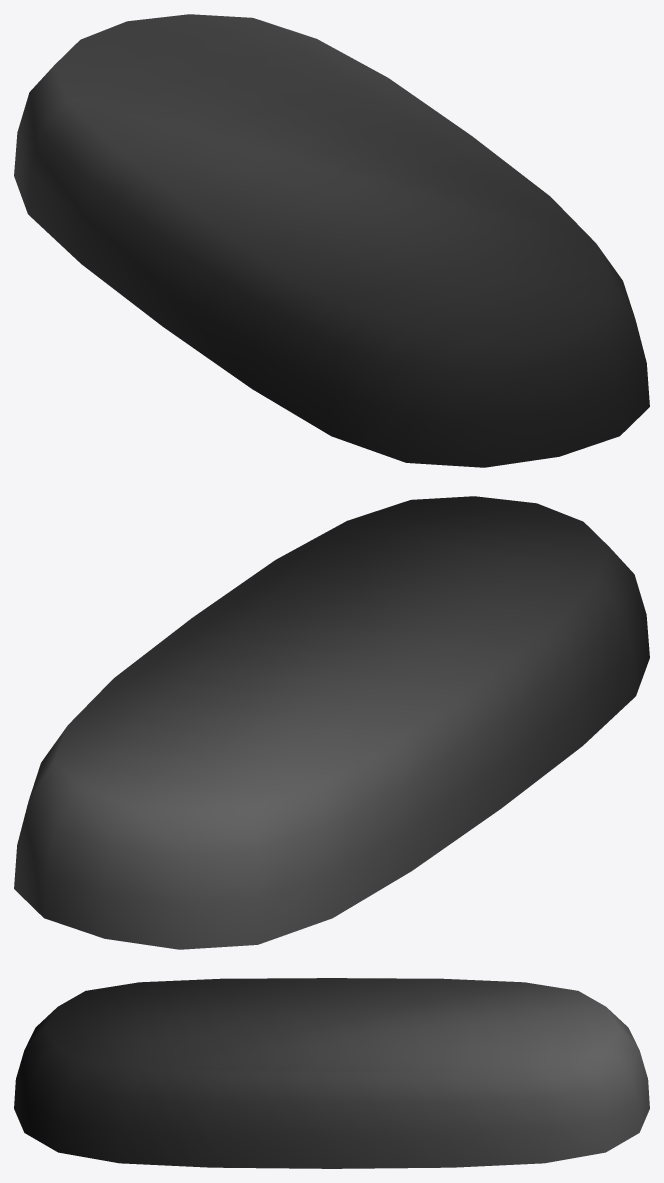
The model's file is Bread Tall Burn Half_2.fbx.
3 renders of one model, top to bottom at view 1: azimuth 30°, elevation 25°; view 2: azimuth 150°, elevation 25°; view 3: azimuth 270°, elevation 25°, orthographic. The views are drawn at different scales.
Parts seen in each view (by area): view 1: Bread Tall Burn Half_2; view 2: Bread Tall Burn Half_2; view 3: Bread Tall Burn Half_2.
Boxes of the visible parts, x1,y1,x2,y2 form: Bread Tall Burn Half_2: [14, 14, 649, 467]; Bread Tall Burn Half_2: [14, 496, 649, 949]; Bread Tall Burn Half_2: [14, 978, 649, 1168].
Size of the model in its own units: 0.089 by 0.0311 by 0.2078.
